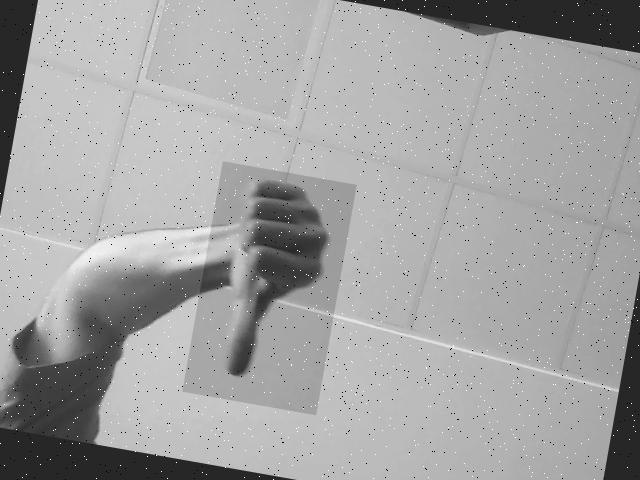bad: (182, 161, 356, 415)
